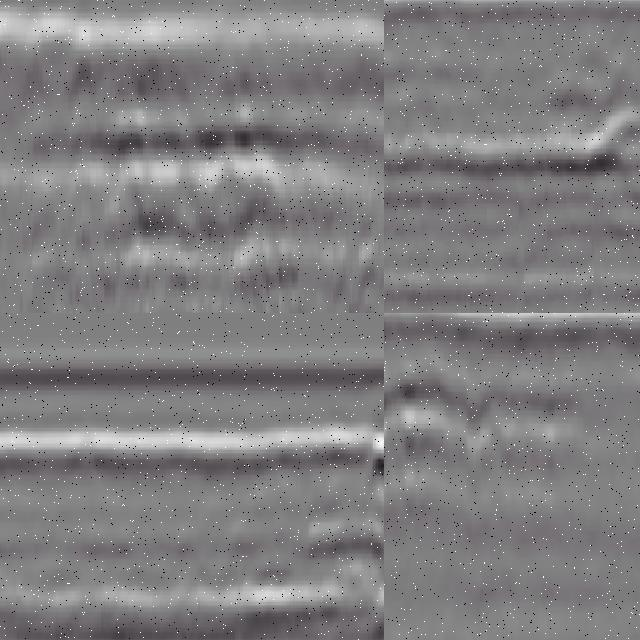crack: (367, 381, 385, 640)
loose: (101, 102, 301, 275), (385, 363, 575, 492), (576, 56, 640, 224)
